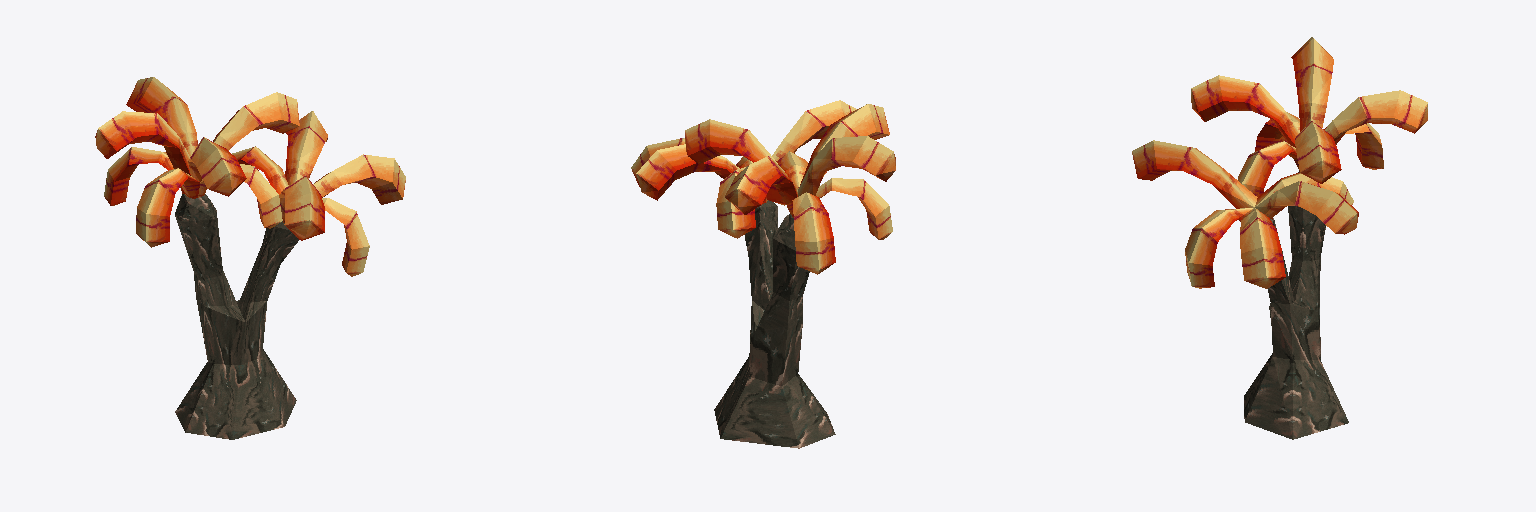
3 views of the same model, side by side, from view 1: azimuth 30°, elevation 25°; view 2: azimuth 150°, elevation 25°; view 3: azimuth 270°, elevation 25° (orthographic).
Parts seen in each view (by area): view 1: Object_1; view 2: Object_1; view 3: Object_1.
Boxes of the visible parts, x1,y1,x2,y2 form: Object_1: [95, 77, 405, 439]; Object_1: [631, 100, 895, 448]; Object_1: [1132, 37, 1427, 439].
Size of the model in its own units: 5.74 by 6.14 by 5.13.
1 materials, 1 textured.